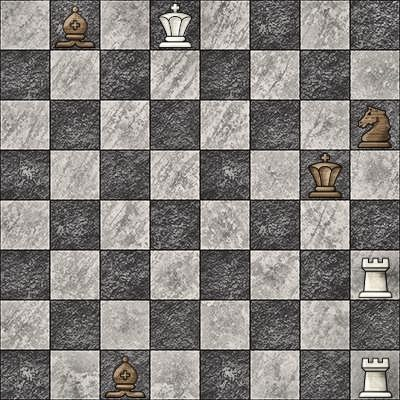black-bishop: (50, 0, 100, 50), (100, 350, 150, 400)
black-king: (300, 150, 350, 200)
black-knight: (350, 100, 400, 150)
white-king: (150, 0, 200, 50)
white-rook: (350, 250, 400, 300), (350, 350, 400, 400)
